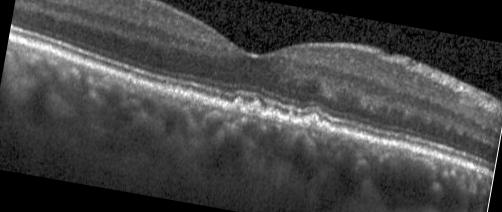retinal_drusen: (245, 103, 260, 116), (264, 111, 280, 122), (309, 116, 319, 129), (232, 99, 241, 112), (284, 116, 296, 125), (319, 125, 330, 131), (299, 121, 308, 126)
